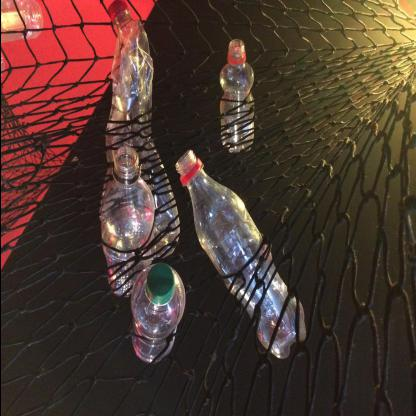plastik: (173, 148, 305, 360), (104, 0, 180, 258), (98, 145, 154, 299), (127, 263, 184, 365), (217, 36, 254, 154), (0, 0, 42, 44)
